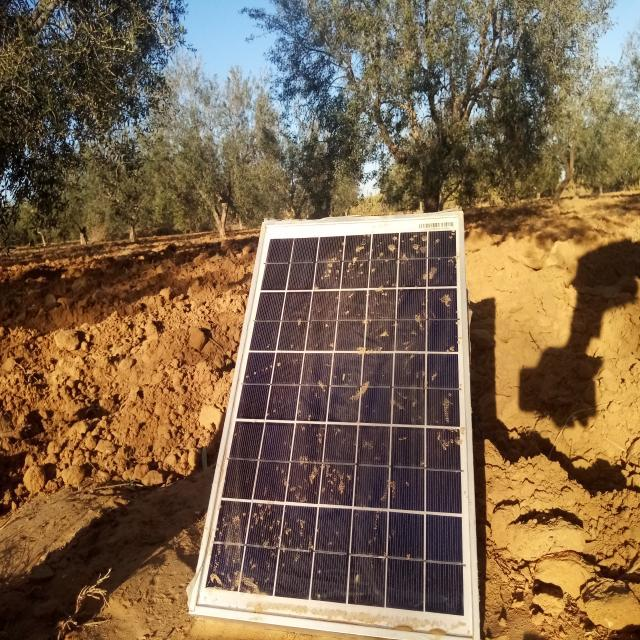faulty: (194, 215, 478, 636)
